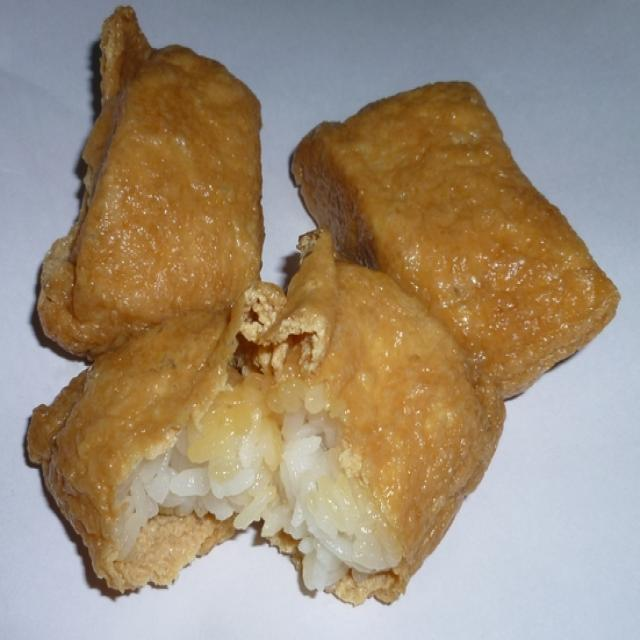寿司卷物: (28, 13, 624, 610)
